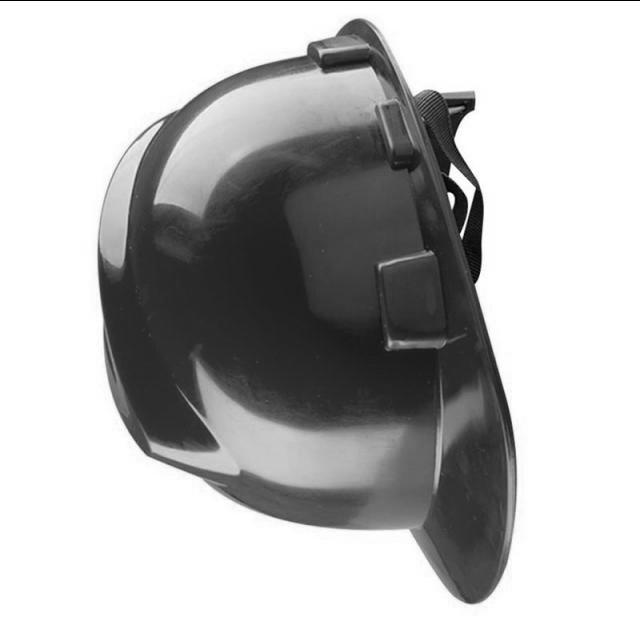construction helmet: (97, 16, 520, 605)
